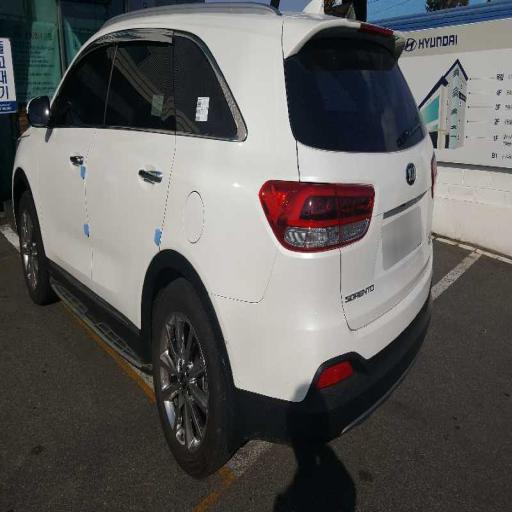normal: (15, 3, 457, 478)
